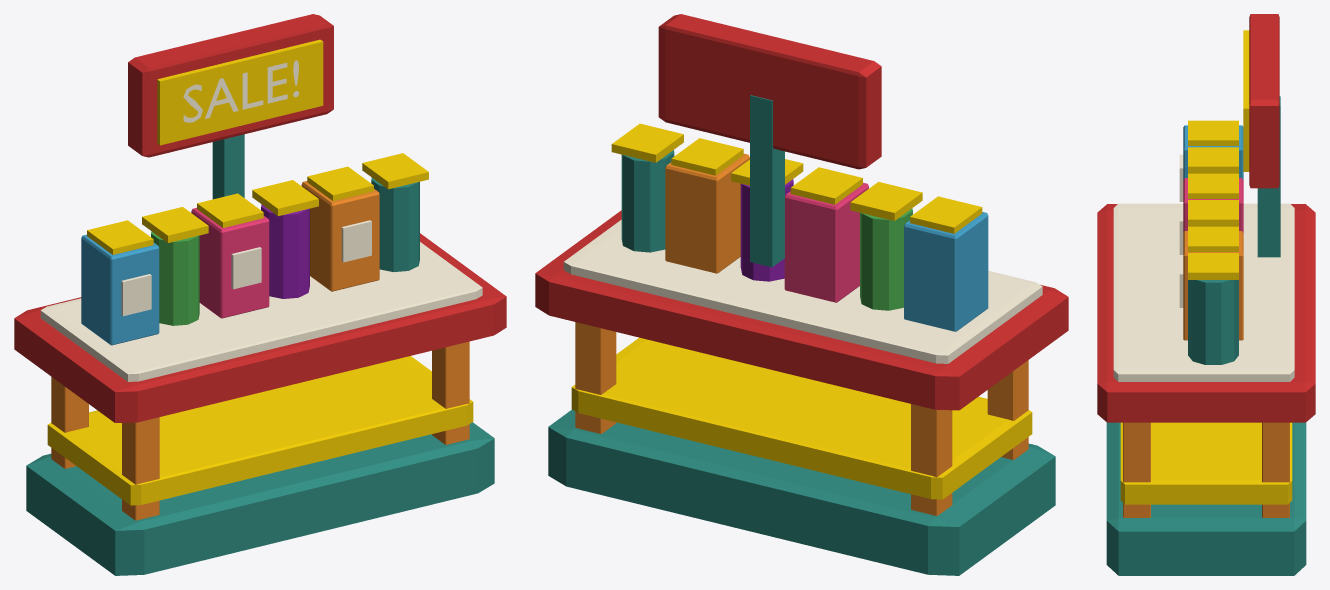
The model's file is promo_display.glb.
3 views of the same model, side by side, from view 1: azimuth 30°, elevation 25°; view 2: azimuth 150°, elevation 25°; view 3: azimuth 270°, elevation 25° (orthographic). The views are drawn at different scales.
Parts seen in each view (by area): view 1: Display foot, Display lower shelf, Display tabletop, Display tabletop inset, Sale sign panel, Sale sign trim, Sale product box, Sale product box.001, Sale product box.002, Sale product can, Sale product can.001, Sale product can.002 (+14 smaller); view 2: Display foot, Display lower shelf, Display tabletop, Sale sign panel, Display tabletop inset, Sale product box, Sale product box.002, Sale product box.001, Sale sign post, Sale product can.002, Sale product can, Display leg.001 (+9 smaller); view 3: Display tabletop inset, Display foot, Display tabletop, Display lower shelf, Sale sign panel, Sale product can.002, Display leg.002, Display leg.003, Sale sign post, Sale product top.001, Sale product top.003, Sale product top.005 (+7 smaller).
Boxes of the visible parts, box(x1,y1,x2,y2) form: Display foot: box(26, 422, 494, 575); Display lower shelf: box(47, 356, 473, 505); Display tabletop: box(14, 233, 506, 422); Display tabletop inset: box(40, 242, 482, 381); Sale sign panel: box(128, 14, 333, 157); Sale sign trim: box(157, 39, 323, 145); Sale product box: box(81, 234, 159, 345); Sale product box.001: box(191, 207, 269, 318); Sale product box.002: box(301, 181, 379, 291); Sale product can: box(151, 231, 199, 325); Sale product can.001: box(261, 204, 309, 298); Sale product can.002: box(371, 177, 419, 272); Display foot: box(548, 409, 1055, 575); Display lower shelf: box(571, 337, 1032, 499); Display tabletop: box(535, 210, 1068, 410); Sale sign panel: box(658, 14, 881, 169); Display tabletop inset: box(563, 219, 1042, 363); Sale product box: box(904, 212, 988, 331); Sale product box.002: box(665, 153, 749, 273); Sale product box.001: box(784, 182, 868, 302); Sale sign post: box(750, 95, 784, 267); Sale product can.002: box(621, 150, 674, 252); Sale product can: box(860, 208, 912, 310); Display leg.001: box(911, 404, 952, 515); Display tabletop inset: box(1113, 203, 1294, 381); Display foot: box(1106, 422, 1306, 575); Display tabletop: box(1097, 204, 1315, 422); Display lower shelf: box(1120, 422, 1292, 504); Sale sign panel: box(1249, 14, 1279, 188); Sale product can.002: box(1188, 280, 1238, 364); Display leg.002: box(1123, 422, 1150, 517); Display leg.003: box(1262, 422, 1289, 517); Sale sign post: box(1257, 96, 1280, 257); Sale product top.001: box(1188, 147, 1238, 173); Sale product top.003: box(1188, 200, 1238, 226); Sale product top.005: box(1188, 253, 1238, 279).
Size of the model in its own units: 1.92 by 2.05 by 0.94.
